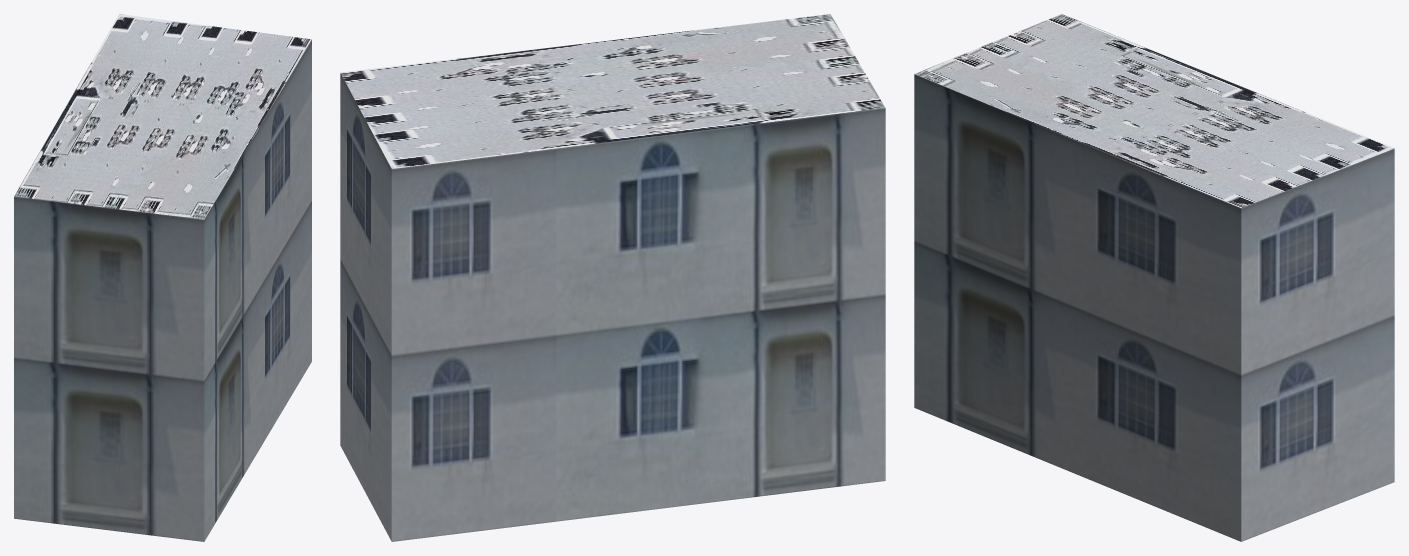
The model's file is ResTex__1808.fbx.
3 renders of one model, left to right at view 1: azimuth 30°, elevation 25°; view 2: azimuth 150°, elevation 25°; view 3: azimuth 270°, elevation 25°, orthographic. The views are drawn at different scales.
Visible parts, largest first — view 1: CityEngineMaterial_17_m, CityEngineMaterial_8_m; view 2: CityEngineMaterial_17_m, CityEngineMaterial_8_m; view 3: CityEngineMaterial_17_m, CityEngineMaterial_8_m.
Part boxes in pixels (box(x1,y1,x2,y2)): CityEngineMaterial_17_m: box(14, 40, 311, 541); CityEngineMaterial_8_m: box(14, 14, 311, 219); CityEngineMaterial_17_m: box(340, 73, 885, 541); CityEngineMaterial_8_m: box(340, 14, 885, 168); CityEngineMaterial_17_m: box(914, 74, 1394, 541); CityEngineMaterial_8_m: box(914, 14, 1394, 208).
Bounding box in the file's own units: 7.49 × 6 × 7.83.
2 materials, 2 textured.
